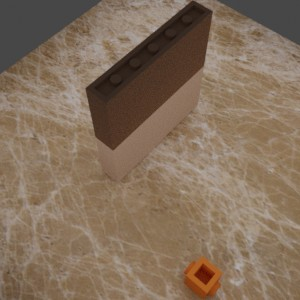lego: (85, 0, 212, 183), (183, 255, 222, 300)
